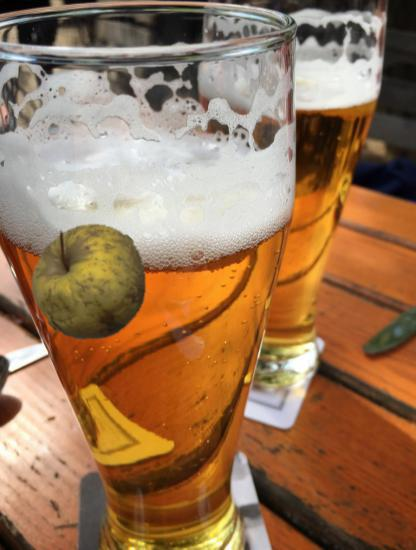Apple: (31, 222, 150, 341)
